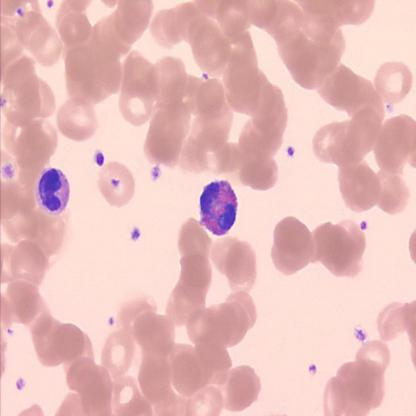Eosinophil: (199, 180, 236, 237)
